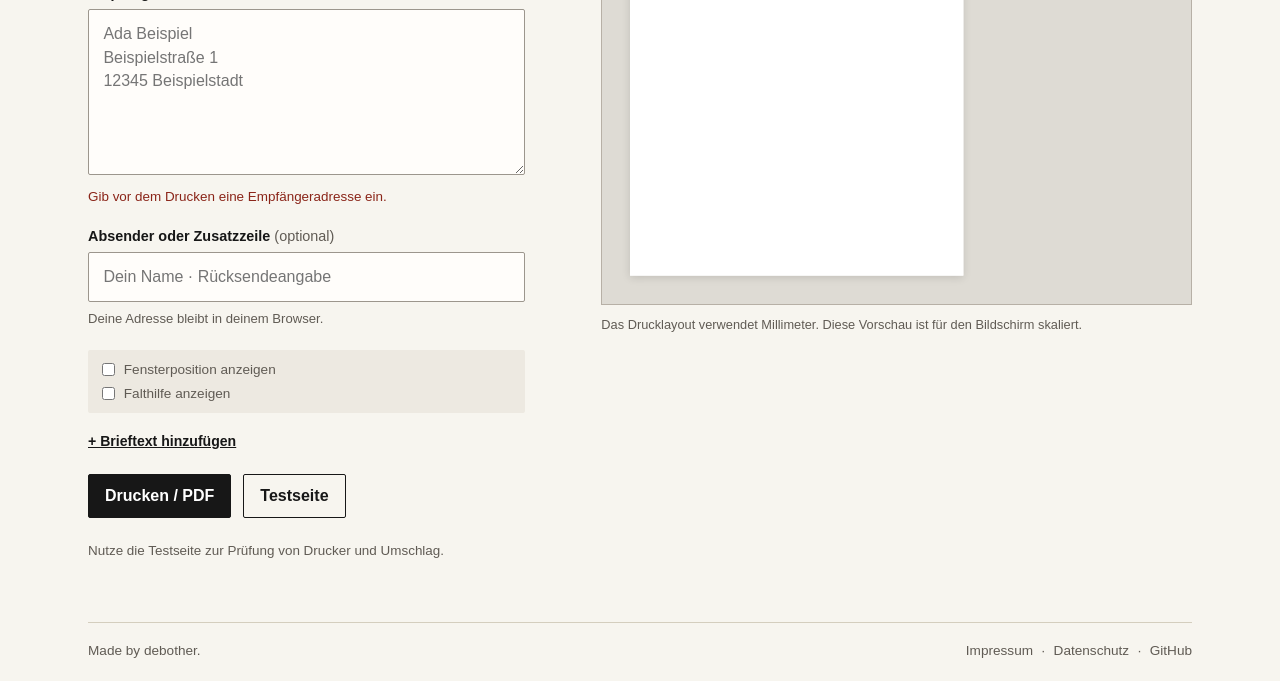
WindowFit V0.2 Sprint Goals Comprehensive Suite › 8. Letter mode can be activated via toggle button
The image size is (1280, 681).
(page scrolled)
Click the button "+ Brieftext hinzufügen": (162, 441) x1=88 y1=433 x2=236 y2=449
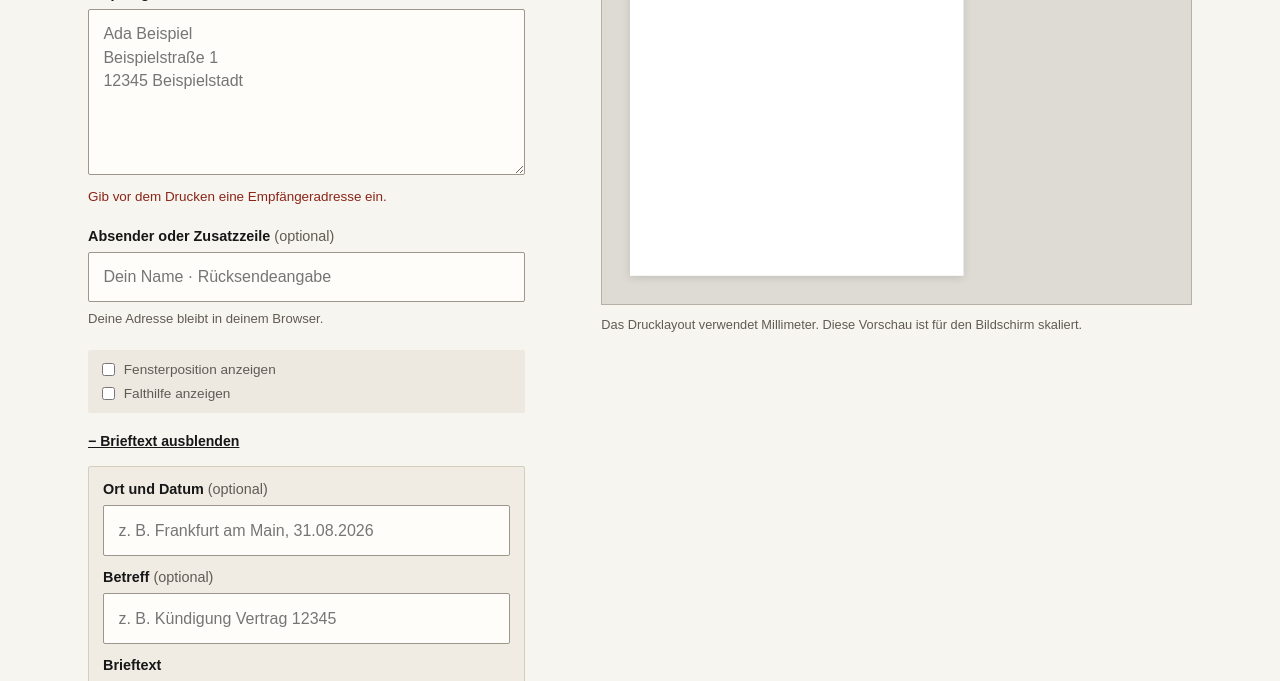
Result: the field labelled "Ort und Datum (optional)" is shown at x1=103 y1=505 x2=510 y2=556
Result: the field labelled "Betreff (optional)" is shown at x1=103 y1=593 x2=510 y2=644
Result: the button "− Brieftext ausblenden" is shown at x1=88 y1=433 x2=239 y2=449
